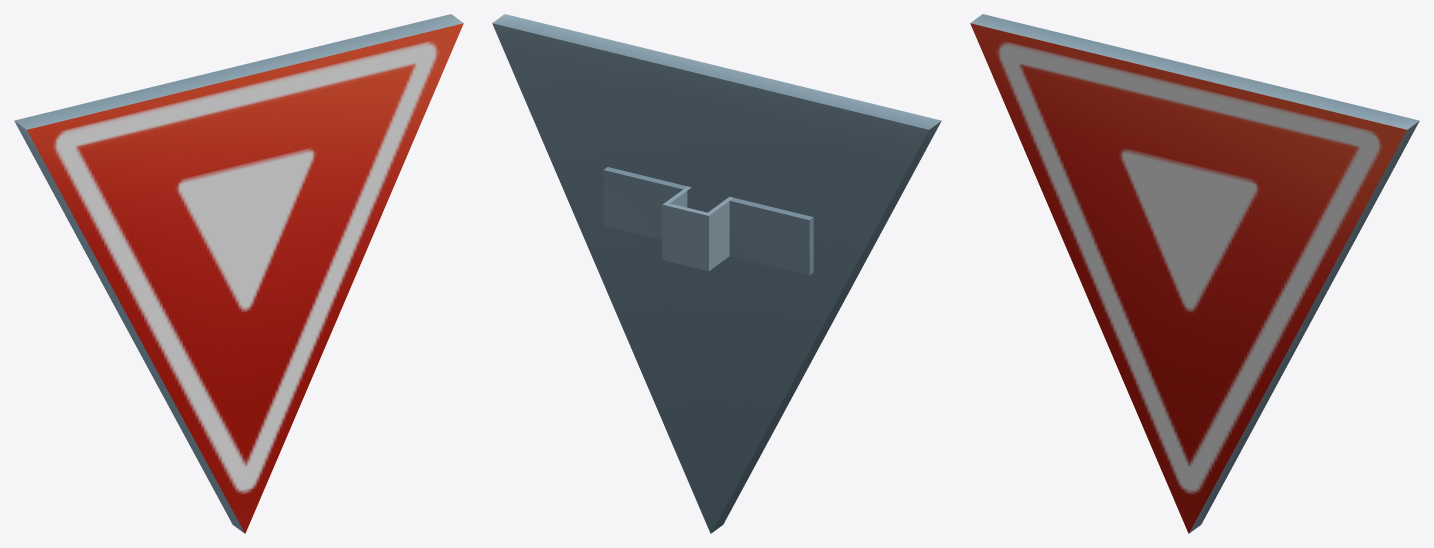
File: Sign30.fbx
3 views of the same model, side by side, from view 1: azimuth 30°, elevation 25°; view 2: azimuth 150°, elevation 25°; view 3: azimuth 330°, elevation 25° (orthographic).
Visible parts, largest first — view 1: Sign30; view 2: Sign30; view 3: Sign30.
Boxes of the visible parts, box(x1,y1,x2,y2) form: Sign30: box(14, 14, 463, 533); Sign30: box(492, 14, 941, 533); Sign30: box(970, 14, 1419, 533).
Bounding box in the file's own units: 1 × 0.1489 × 1.
